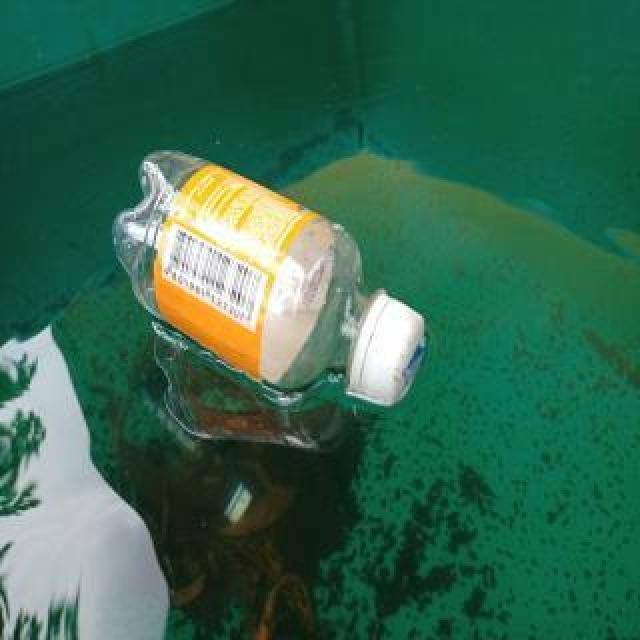Bottle: (105, 142, 438, 415)
